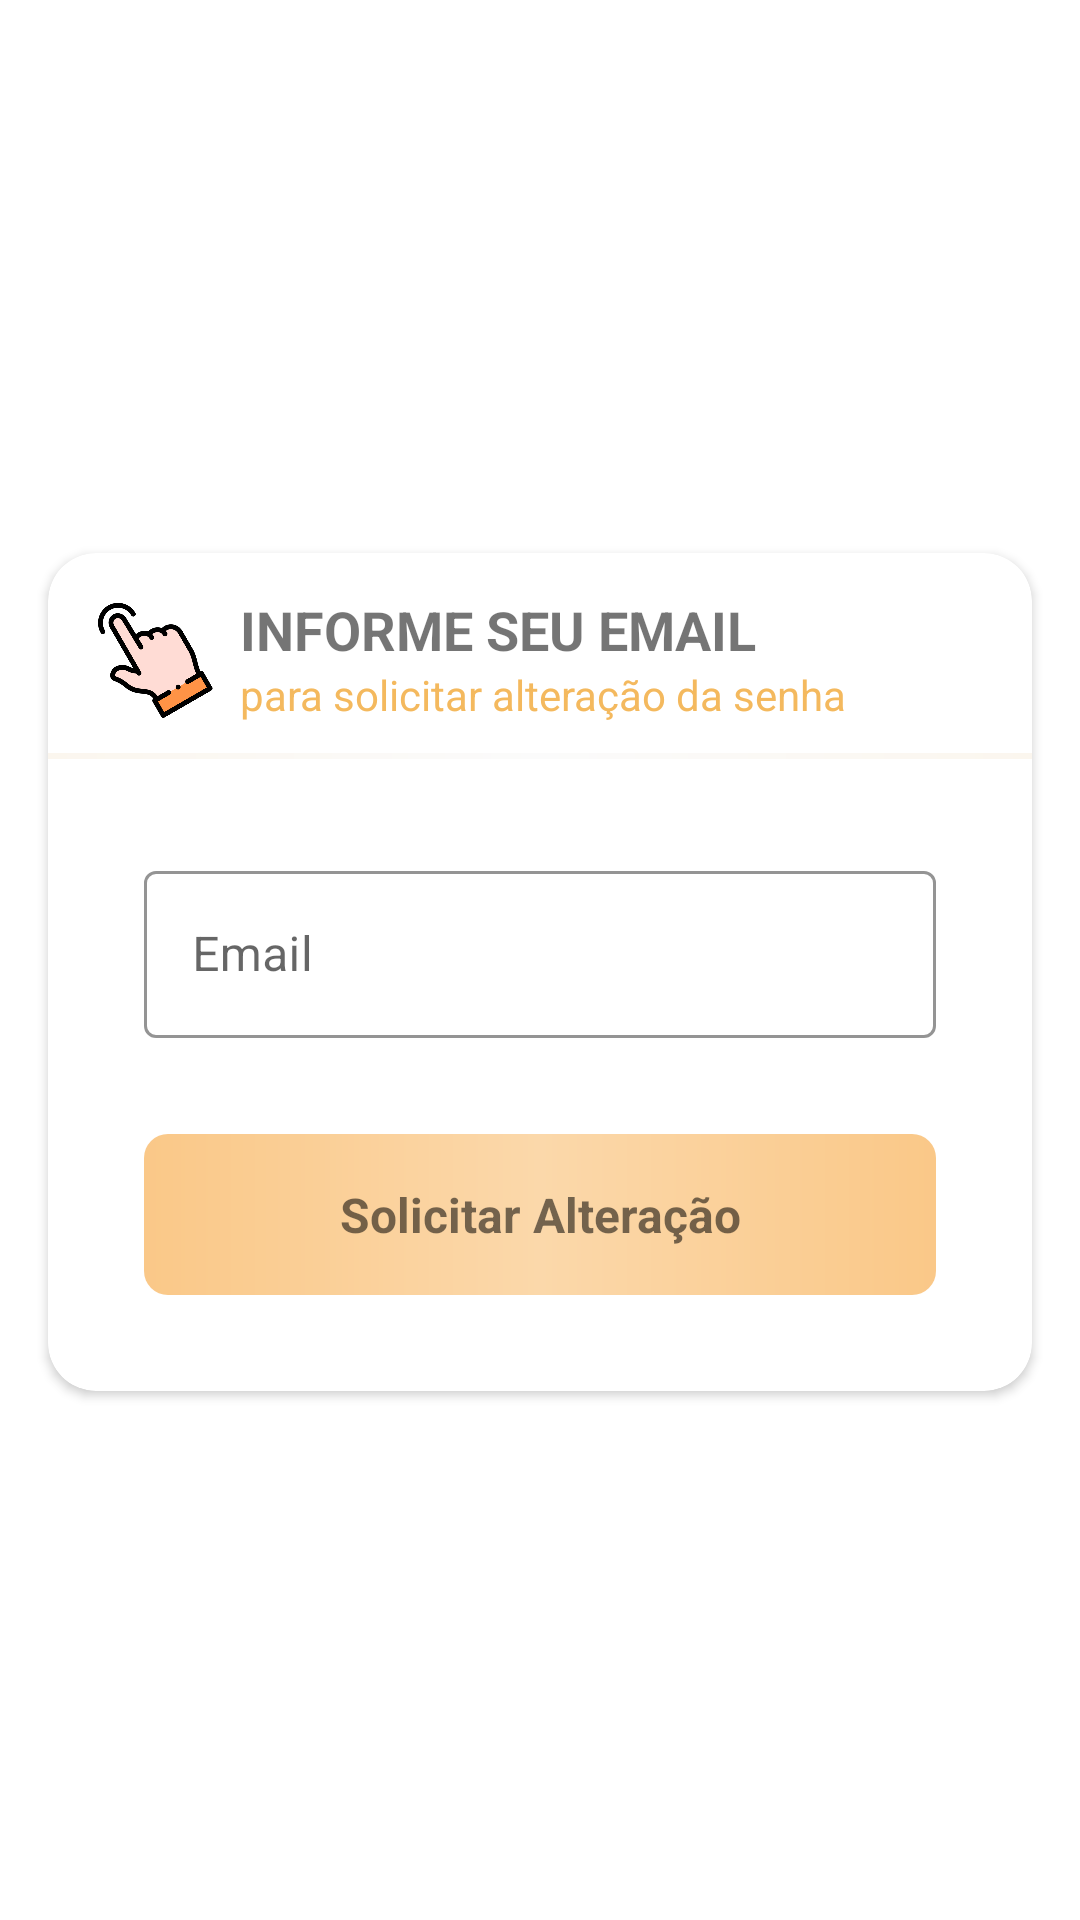

Icons on this 1080*1920 Android screen, each with the point to tap as (x=x, y=y):
hand click inclined: (x=155, y=660)
